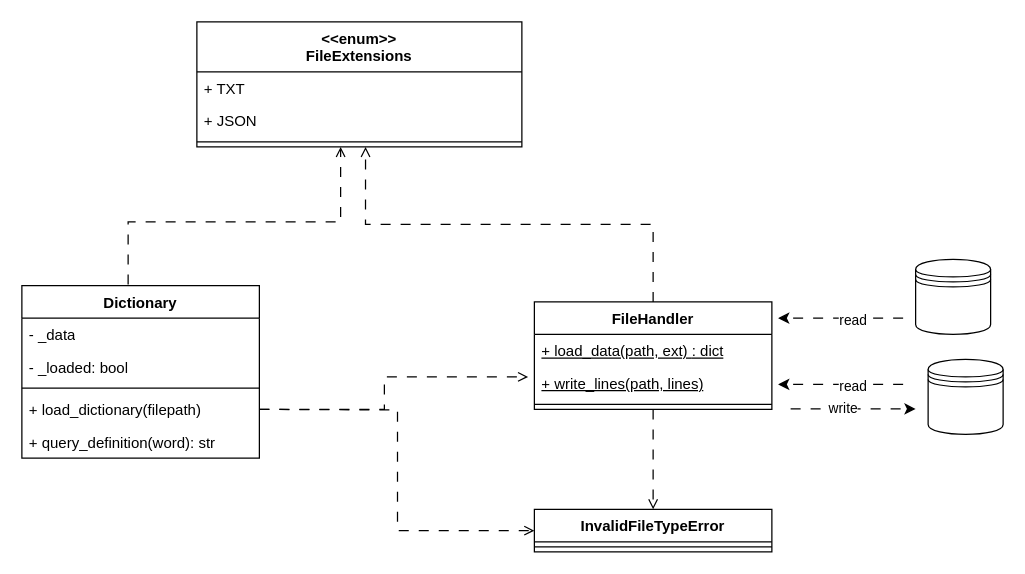
The diagram is 1025 pixels wide and 574 high, and some of its shapes have lost their labels. The shapes that lost their labels are listed below. From the top down, each one's centre as x and y in pixels, then its label:
pixel 952 296: data.json
pixel 965 396: data.txt
